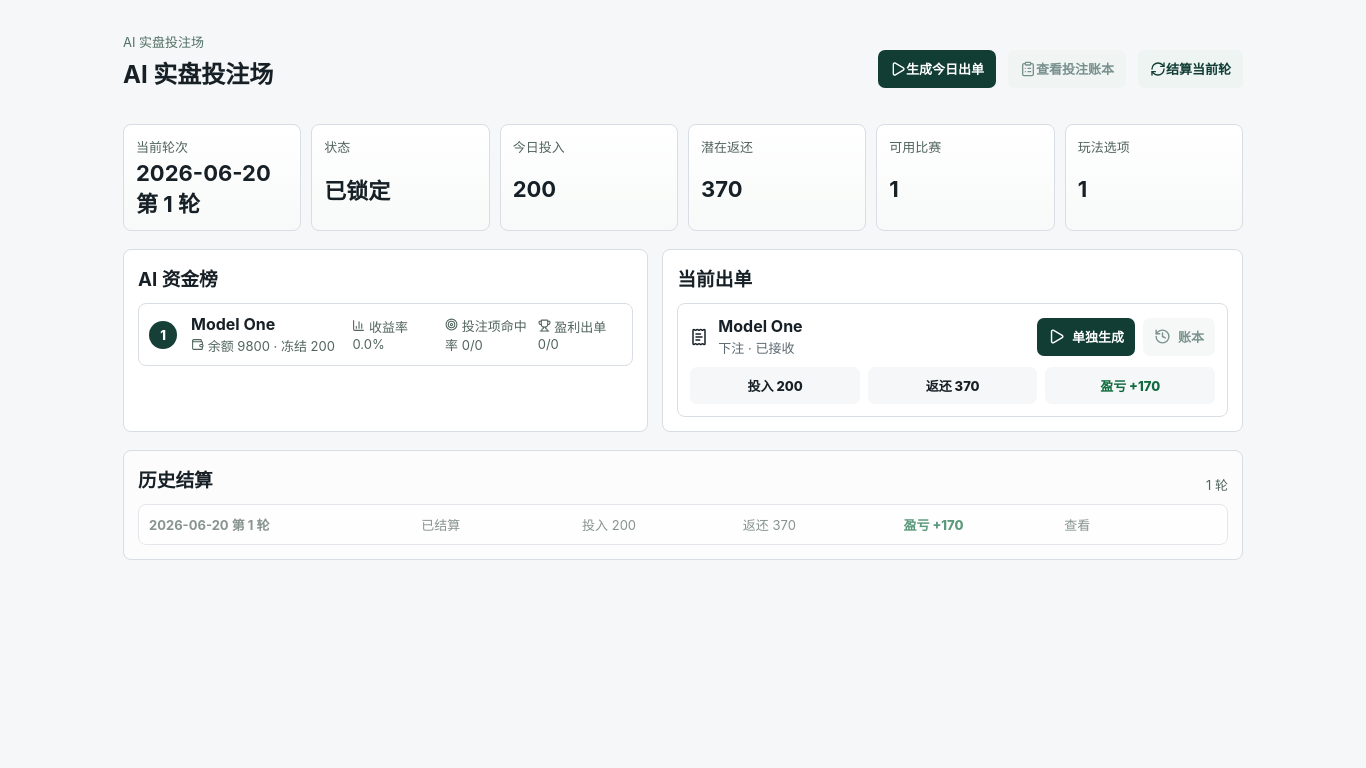
Scenario: BettingArenaPage › keeps raw prompt and battle context out of first-level betting arena
Expected: the heading "AI 实盘投注场" is shown, [123,55,273,90]
Step 1. Click the button with aria-label "Model One 投注详情" → [760, 326], box [690,316,1027,357]
(page scrolled)
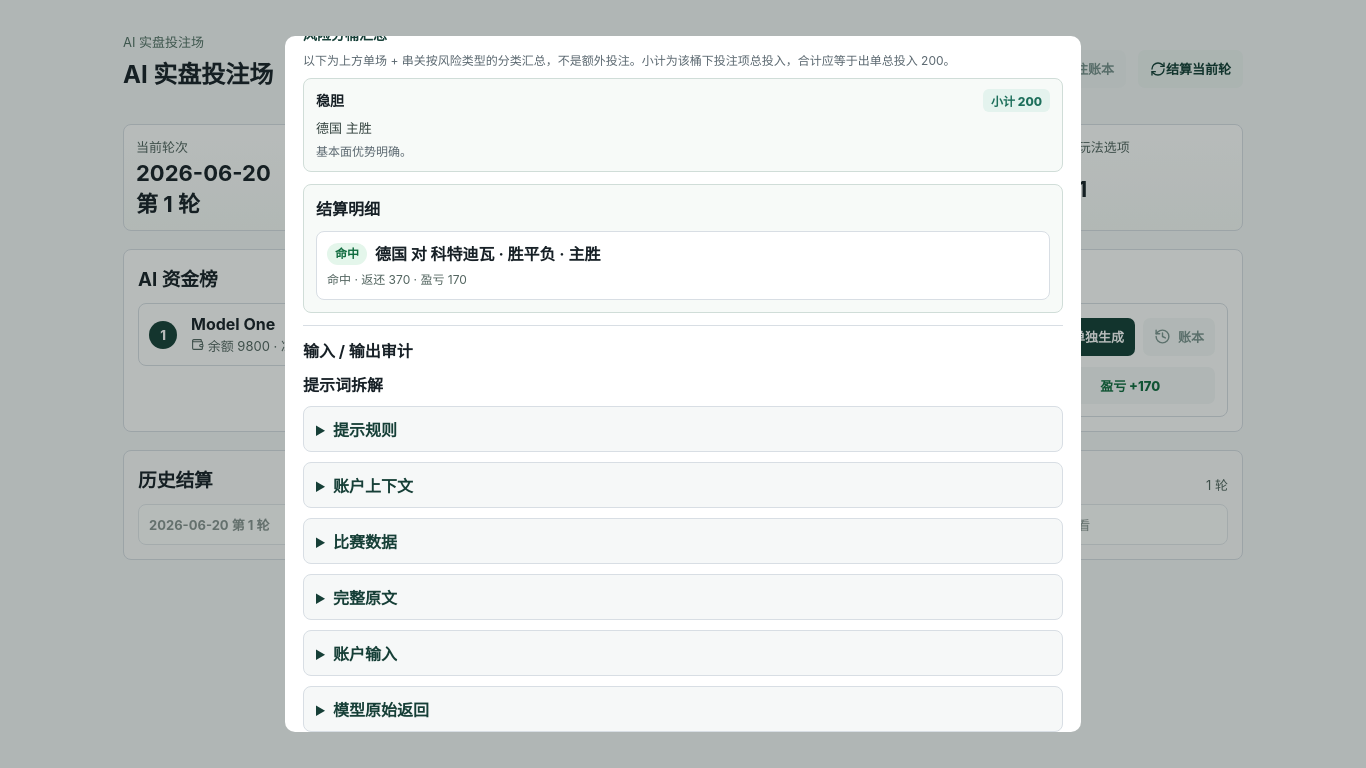
Expected: the heading "提示词拆解" is shown, [303,375,383,395]
